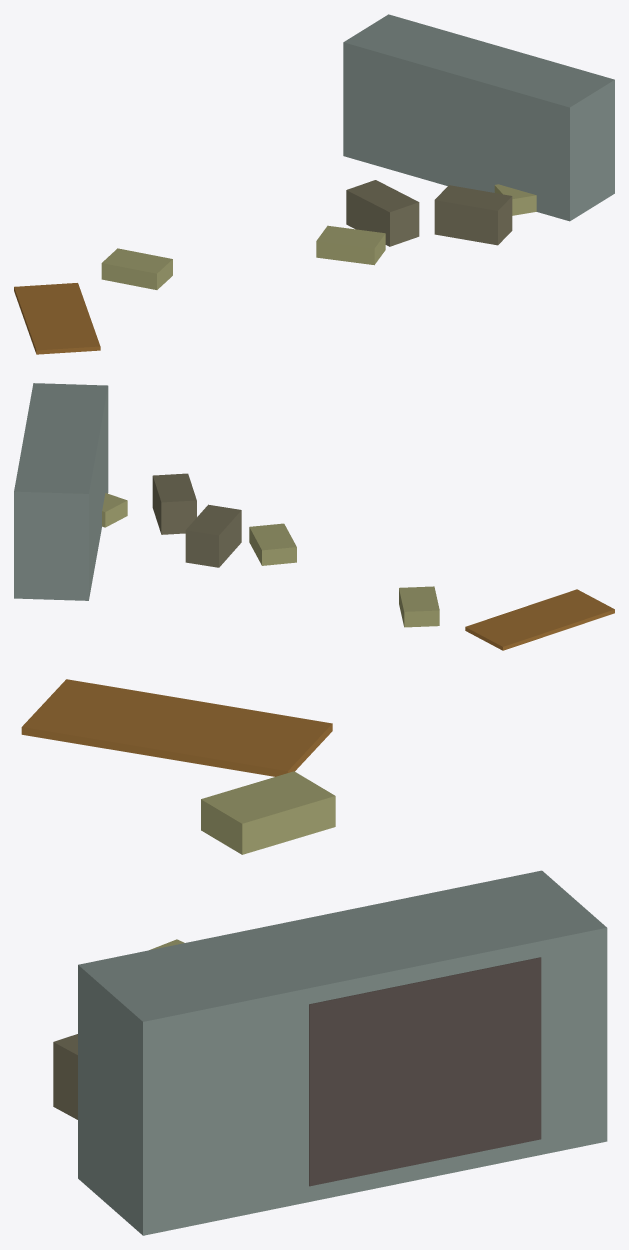
The model's file is SM_BarricadaCivil_v4_Mixta_e3_Brecha_LOD0.fbx.
3 renders of one model, top to bottom at view 1: azimuth 30°, elevation 25°; view 2: azimuth 150°, elevation 25°; view 3: azimuth 270°, elevation 25°, orthographic. The views are drawn at different scales.
Visible parts, largest first — view 1: SM_barricada_civil_v19_LOD0; view 2: SM_barricada_civil_v19_LOD0; view 3: SM_barricada_civil_v19_LOD0.
Part boxes in pixels (x1=…): SM_barricada_civil_v19_LOD0: x1=14, y1=14, x2=614, y2=354; SM_barricada_civil_v19_LOD0: x1=14, y1=383, x2=614, y2=650; SM_barricada_civil_v19_LOD0: x1=21, y1=679, x2=607, y2=1235.
Bounding box in the file's own units: 9.08 × 1.65 × 4.09.
